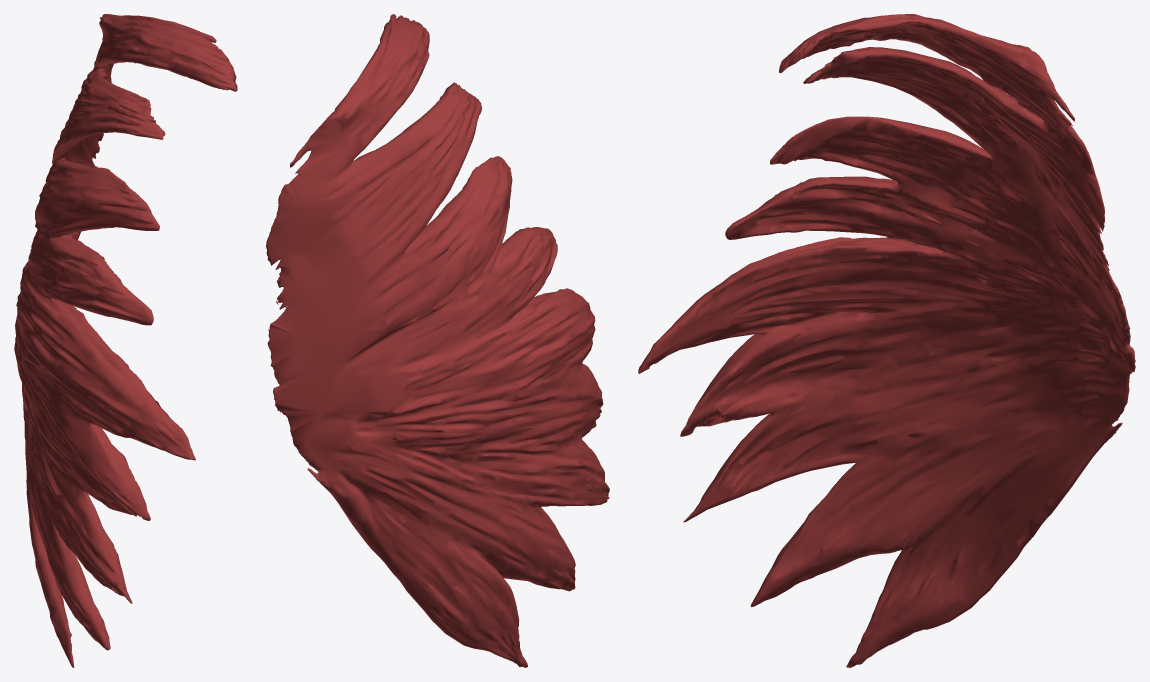
The model's file is serratus-anterior-muscle-r.glb.
The picture shows the model from 3 angles, left to right: view 1: azimuth 30°, elevation 25°; view 2: azimuth 150°, elevation 25°; view 3: azimuth 270°, elevation 25°; orthographic projection. The views are drawn at different scales.
Parts seen in each view (by area): view 1: Serratus anterior muscle.r; view 2: Serratus anterior muscle.r; view 3: Serratus anterior muscle.r.
Boxes of the visible parts, bbox=[...] form: Serratus anterior muscle.r: bbox=[14, 14, 237, 667]; Serratus anterior muscle.r: bbox=[266, 14, 609, 667]; Serratus anterior muscle.r: bbox=[638, 14, 1135, 667].
Bounding box in the file's own units: 0.0865 × 0.2747 × 0.1721.
